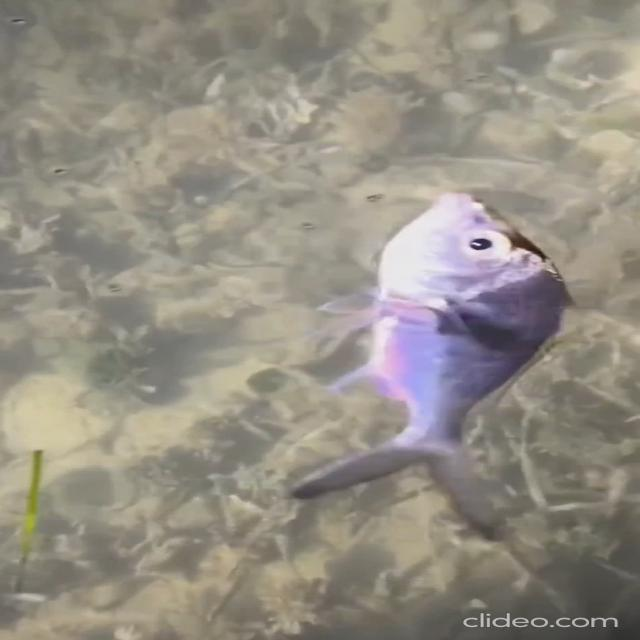fish: (290, 177, 581, 557)
